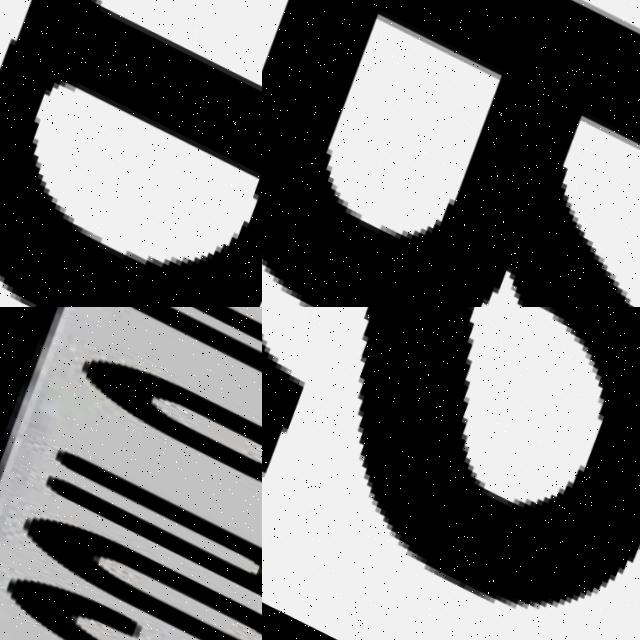3: (0, 556, 262, 640)
8: (57, 329, 262, 633)
9: (0, 489, 262, 640)
B: (120, 307, 262, 506)
H: (26, 434, 262, 640)
L: (90, 307, 262, 559)
P: (0, 0, 262, 307)
R: (262, 0, 640, 307)
S: (262, 307, 640, 640)
